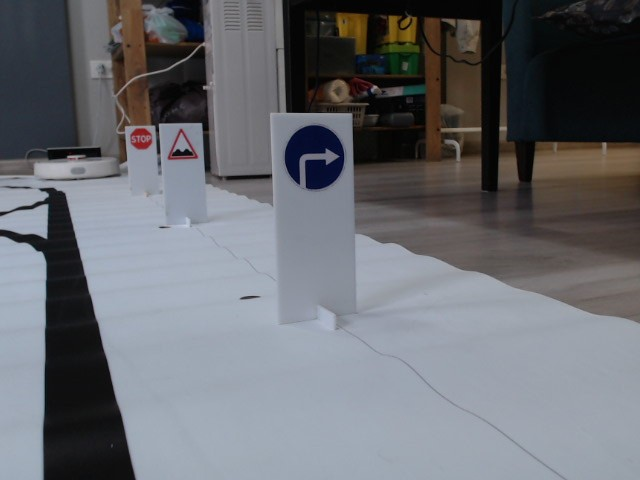Nerov: (167, 128, 198, 160)
Right: (284, 123, 347, 194)
Stop: (129, 126, 153, 150)
